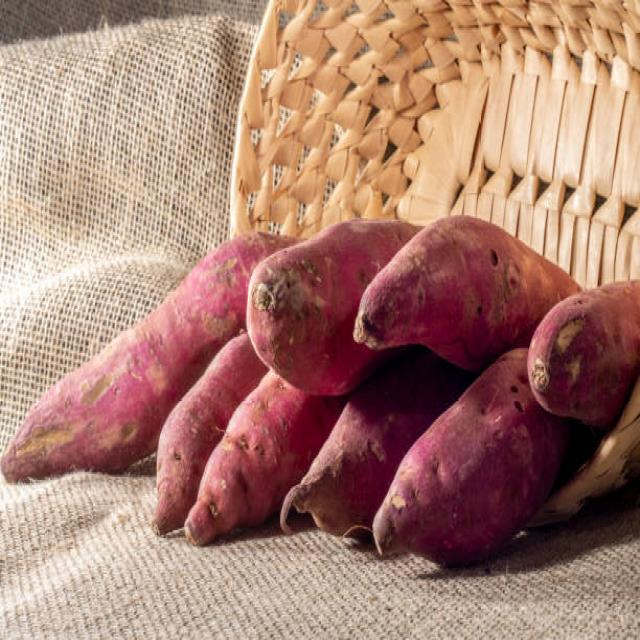Sweet Potato: (378, 376, 534, 572), (358, 212, 526, 351), (0, 335, 158, 480), (247, 241, 355, 398), (529, 282, 640, 419), (188, 414, 285, 544)
